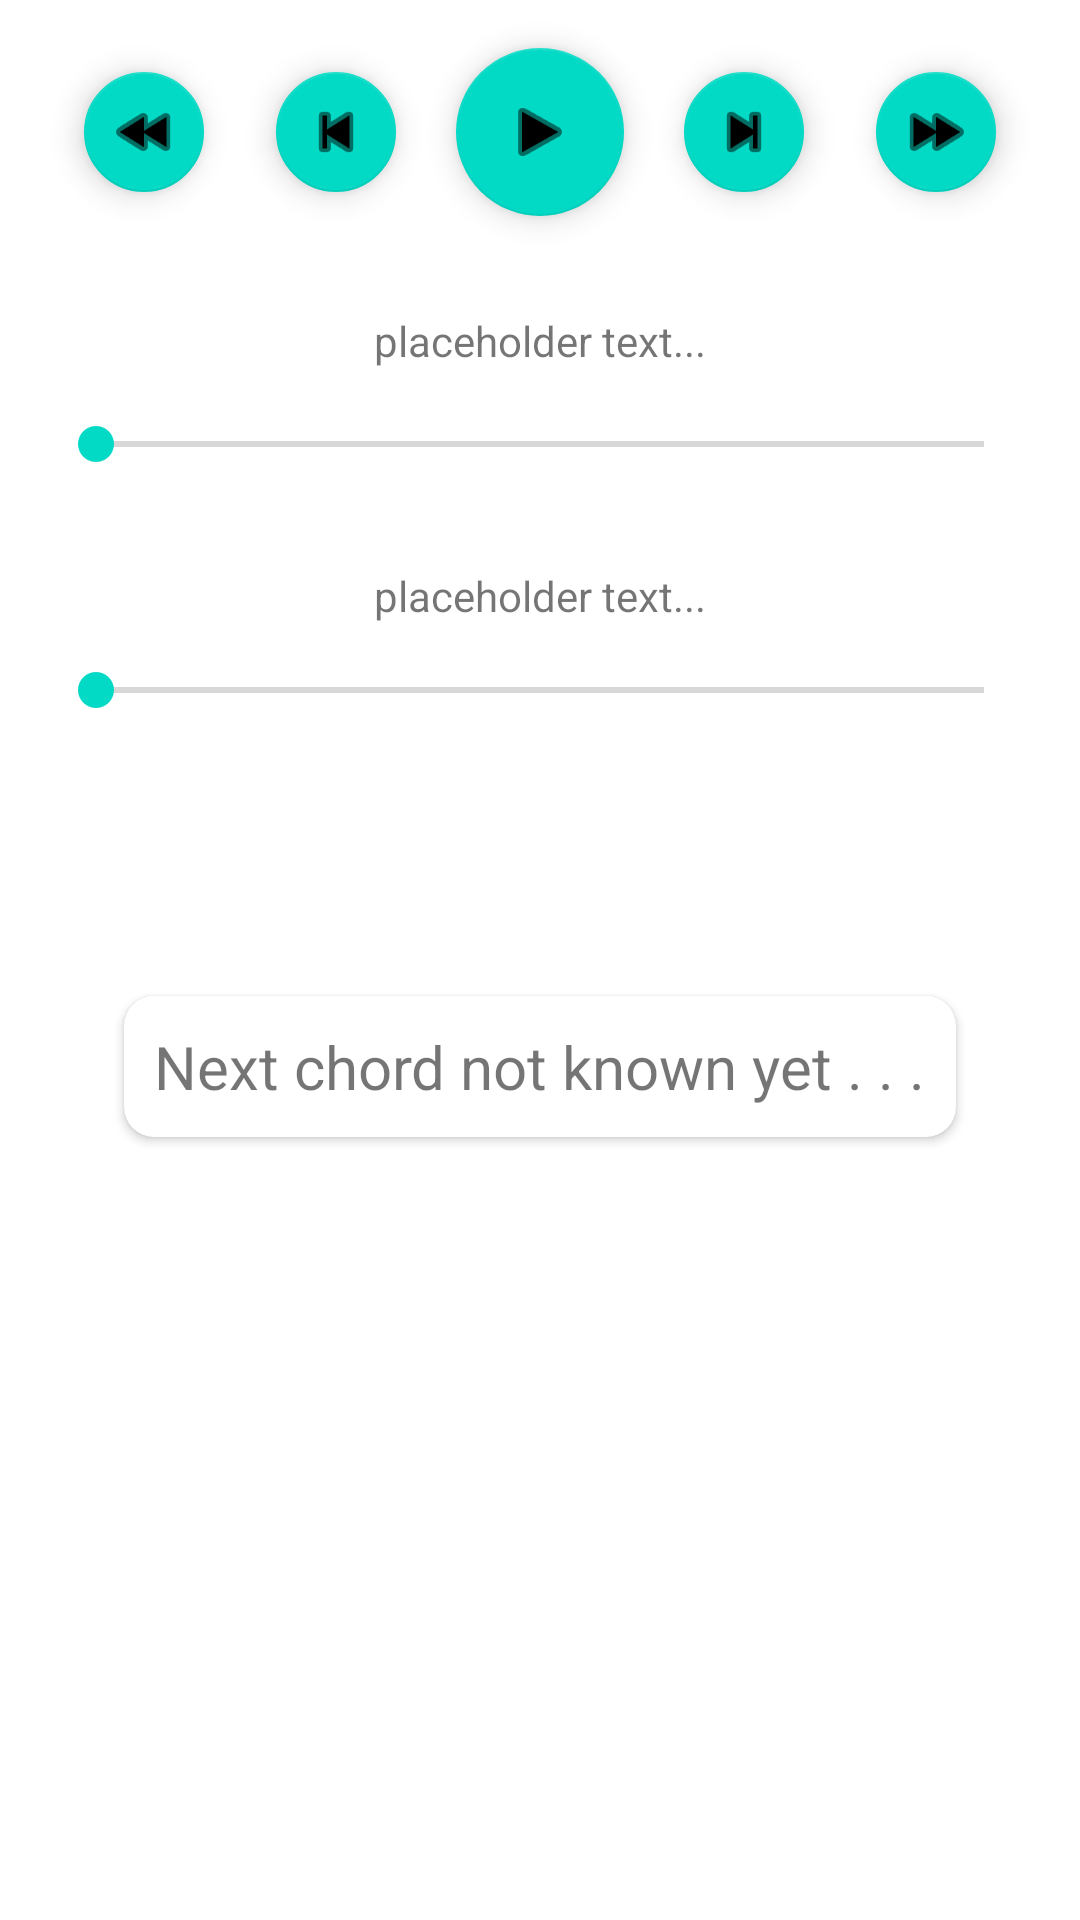

Screen size 1080 x 1920. Icon name, then its box in pixels as (x1, y1, x2, y2):
Go to the next measure: (684, 72, 805, 193)
Go to the next phrase: (876, 72, 998, 193)
Go to the start of the current measure: (275, 72, 396, 193)
Go to the start of the current phrase: (82, 72, 204, 193)
start or stop the song: (456, 48, 624, 216)
